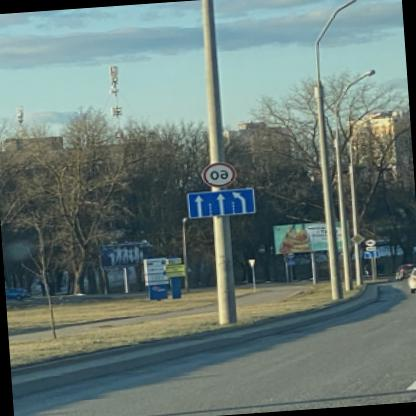crosswalk: (286, 256, 300, 266)
speedlimit: (204, 160, 238, 188)
